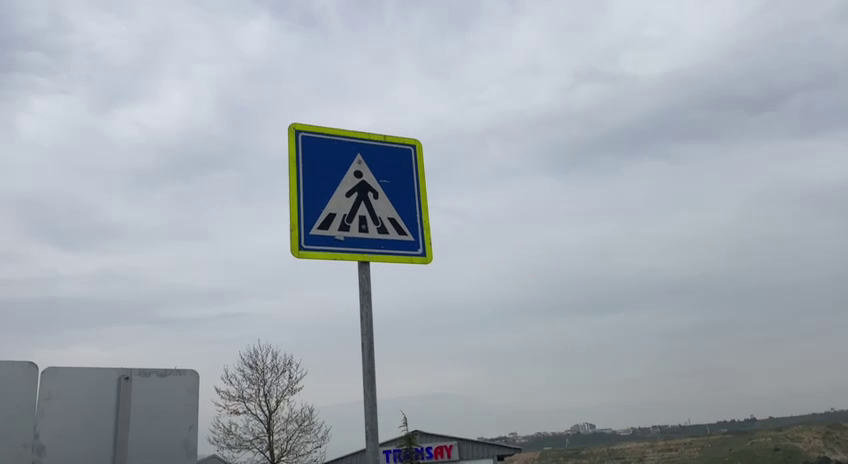pedestrianCrossing: (286, 120, 436, 267)
